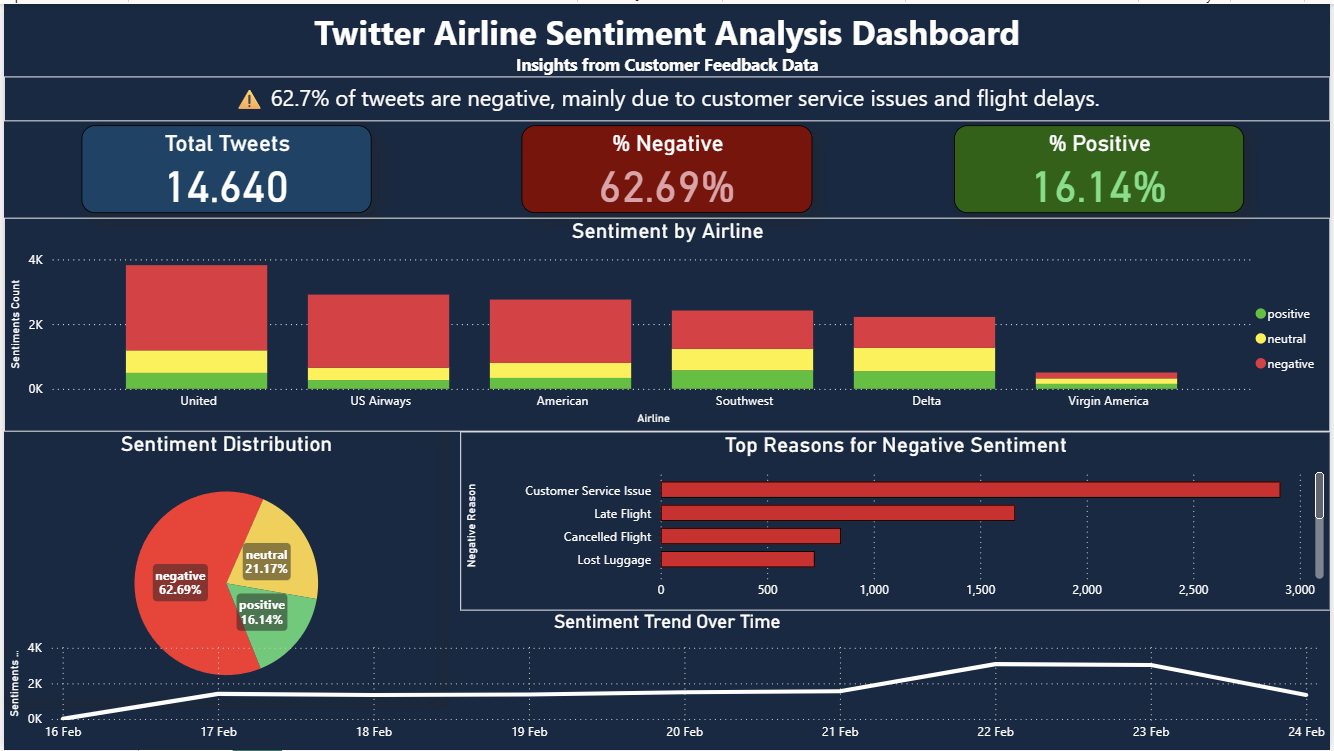

This screenshot's page, from the dashboard's own definition file:
{"tool":"powerbi","page":{"name":"Page 1","canvas":[1280,720],"ordinal":0},"visuals":[{"type":"card","title":"Total Tweets","fields":{"Values":["CountNonNull(cleaned_airline_sentiment.text)"]},"box":[74.8,117,279.9,84.5],"z":0},{"type":"card","title":"% Negative","fields":{"Values":["cleaned_airline_sentiment.Negative %"]},"box":[499.5,117,281.1,84.5],"z":1000},{"type":"card","title":"% Positive","fields":{"Values":["cleaned_airline_sentiment.Positive %"]},"box":[916.9,117,279.9,84.5],"z":2000},{"type":"columnChart","title":"Sentiment by Airline","fields":{"Category":["cleaned_airline_sentiment.airline"],"Series":["cleaned_airline_sentiment.airline_sentiment"],"Y":["CountNonNull(cleaned_airline_sentiment.airline_sentiment)"]},"box":[0,206.3,1280,206.3],"z":3000},{"type":"pieChart","title":"Sentiment Distribution","fields":{"Category":["cleaned_airline_sentiment.airline_sentiment"],"Y":["CountNonNull(cleaned_airline_sentiment.airline_sentiment)"]},"box":[0,412.6,429.5,267.8],"z":4000},{"type":"clusteredBarChart","title":"Top Reasons for Negative Sentiment","fields":{"Category":["cleaned_airline_sentiment.negativereason"],"Y":["CountNonNull(cleaned_airline_sentiment.negativereason)"]},"box":[440.4,412.6,839.7,172.5],"z":5000},{"type":"lineChart","title":"Sentiment Trend Over Time","fields":{"Category":["cleaned_airline_sentiment.tweet_created.Variation.Date Hierarchy.Year","cleaned_airline_sentiment.tweet_created.Variation.Date Hierarchy.Quarter","cleaned_airline_sentiment.tweet_created.Variation.Date Hierarchy.Month","cleaned_airline_sentiment.tweet_created.Variation.Date Hierarchy.Day"],"Y":["CountNonNull(cleaned_airline_sentiment.airline_sentiment)"]},"box":[0,585.1,1280,135.1],"z":6000},{"type":"textbox","box":[0,0,1280,78.4],"z":7000},{"type":"textbox","box":[0,70,1280,43.4],"z":8000}]}

Visuals, with their boxes in screenshot pixels (x1, y1, x2, y2), scaled from the page's 1280x720 canvas onto the 1334x751 screenshot:
"Total Tweets" card: x1=78, y1=122, x2=370, y2=210
"% Negative" card: x1=521, y1=122, x2=814, y2=210
"% Positive" card: x1=956, y1=122, x2=1247, y2=210
"Sentiment by Airline" columnChart: x1=0, y1=215, x2=1333, y2=430
"Sentiment Distribution" pieChart: x1=0, y1=430, x2=448, y2=710
"Top Reasons for Negative Sentiment" clusteredBarChart: x1=459, y1=430, x2=1333, y2=610
"Sentiment Trend Over Time" lineChart: x1=0, y1=610, x2=1333, y2=750
textbox: x1=0, y1=0, x2=1333, y2=82
textbox: x1=0, y1=73, x2=1333, y2=118
